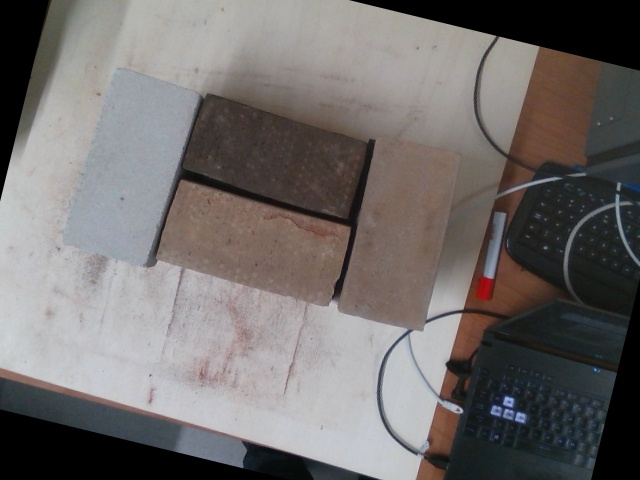brick: (64, 66, 198, 266), (338, 136, 462, 331), (159, 180, 347, 306), (181, 95, 367, 216)
